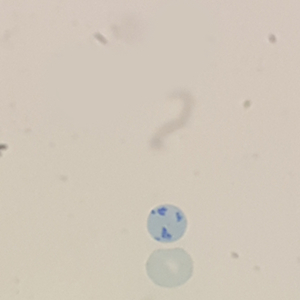aggregate reticulocyte: (144, 203, 189, 245)
erythrocyte: (143, 245, 196, 290)
